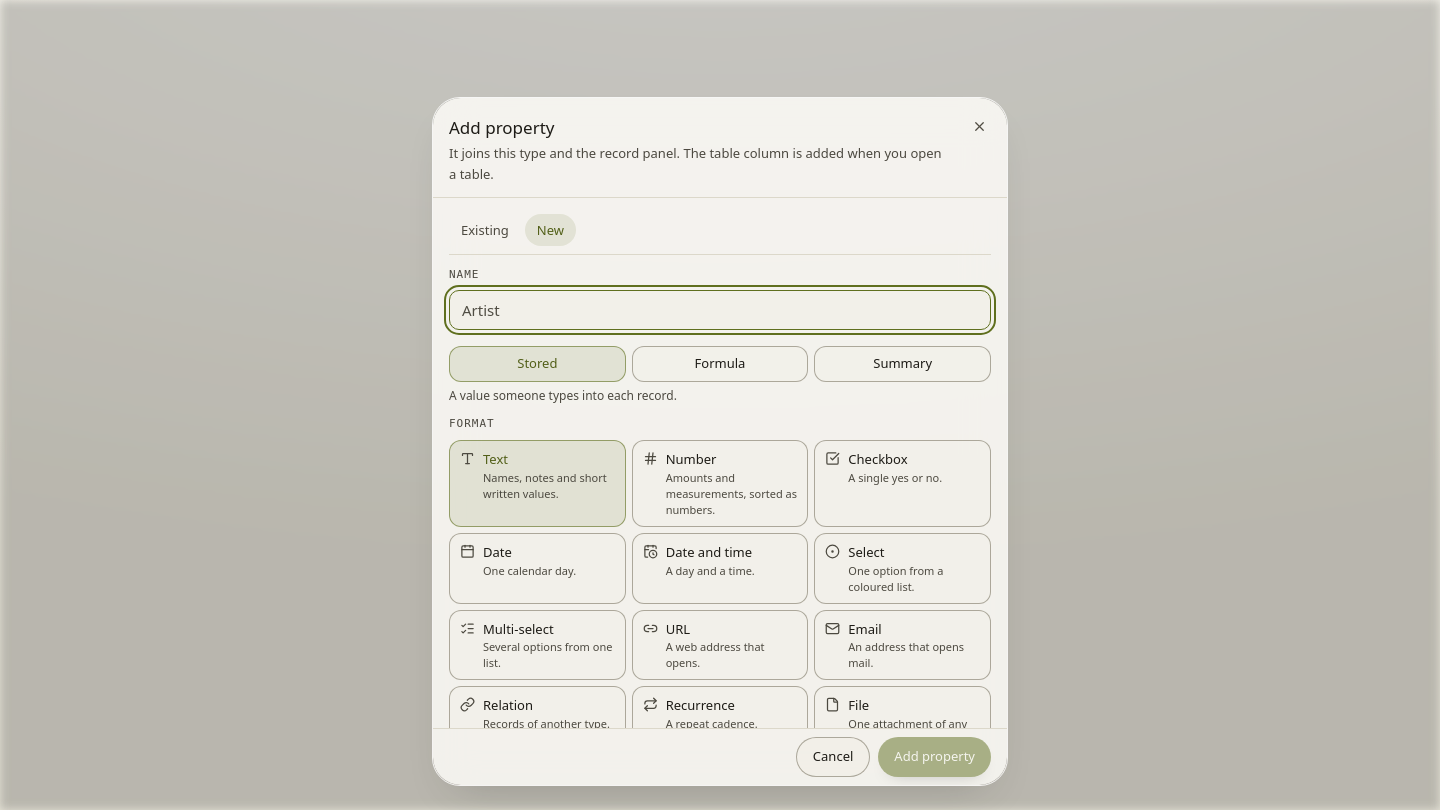
it: AddPropertyDialog › shows a server refusal at the member stage
Step 1. Type "Days since watered" into the field labelled "Name" → (720, 310), box [449, 290, 991, 330]
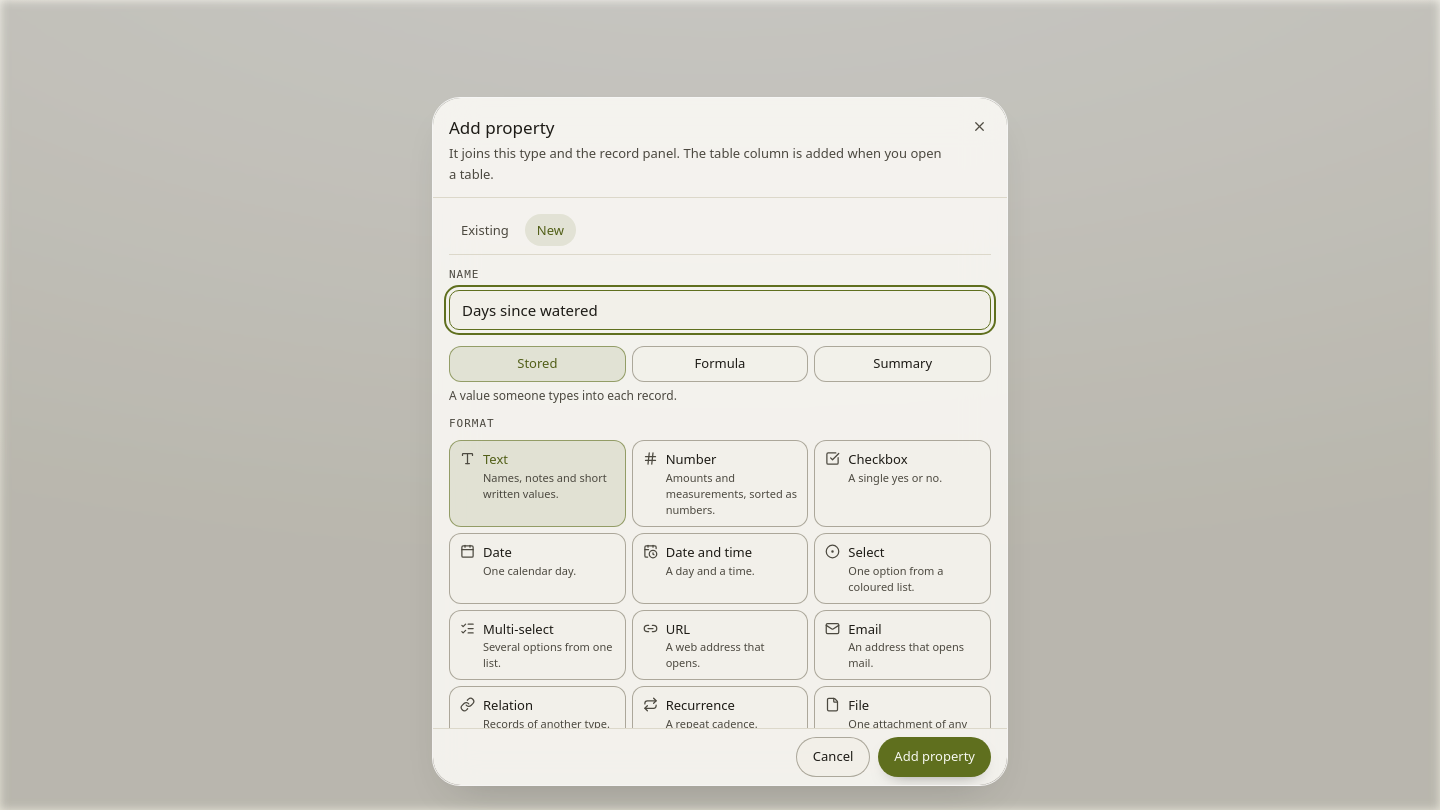
Step 2. Click the radio button labelled "Formula" → (720, 364), box [632, 346, 808, 382]
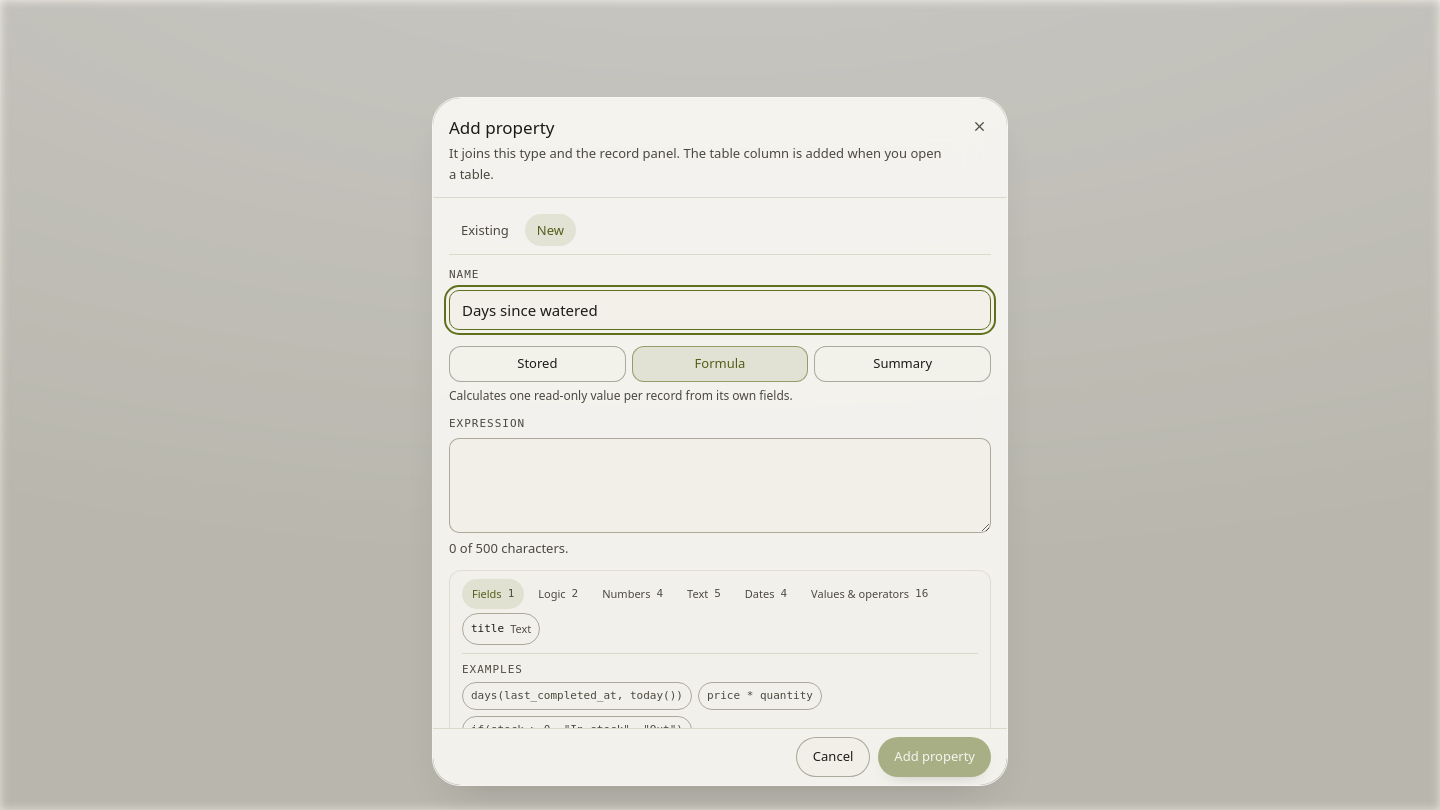
Step 3. Type "days(last_completed_at)" into the text box labelled "Expression" → (720, 486), box [449, 438, 991, 533]
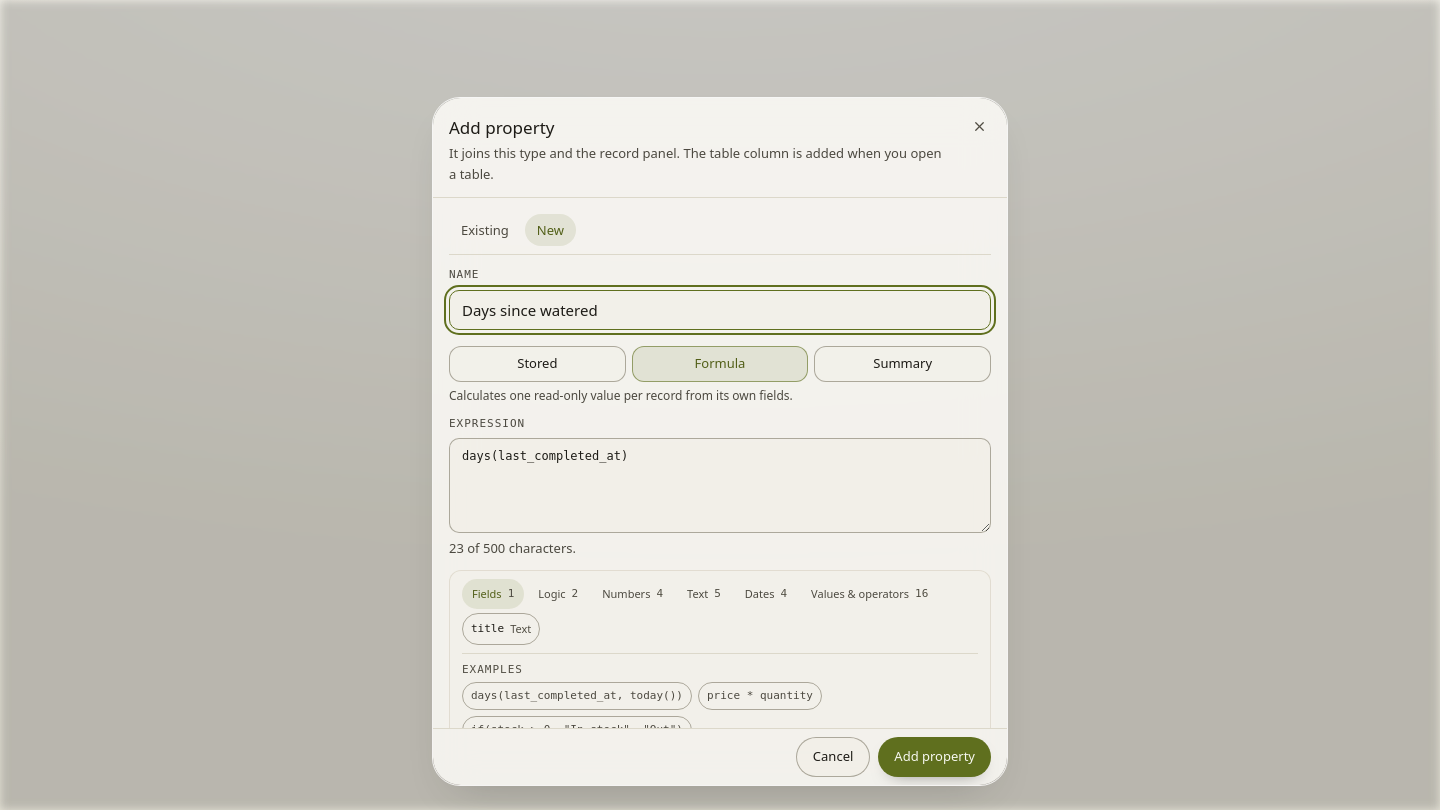
Step 4. Click the button "Add property" → (935, 757), box [878, 737, 991, 777]
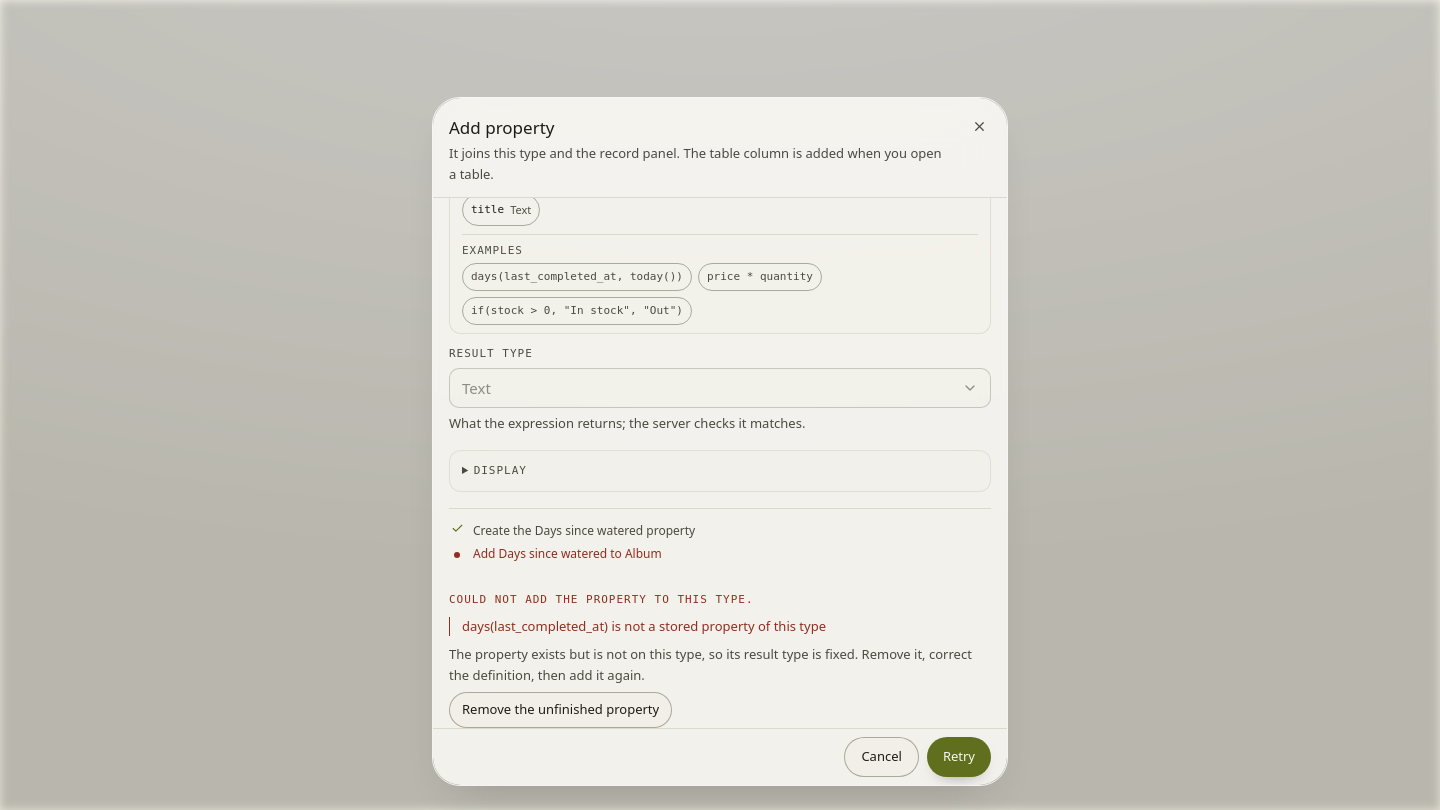
Expected: the text "Could not add the property to this type." is shown, [449, 593, 754, 606]
Expected: the text "days(last_completed_at) is not a stored property of this type" is shown, [449, 617, 991, 636]
